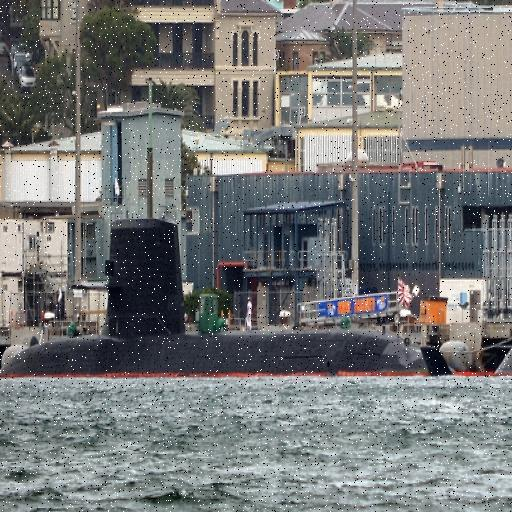submarine: (1, 215, 512, 380)
